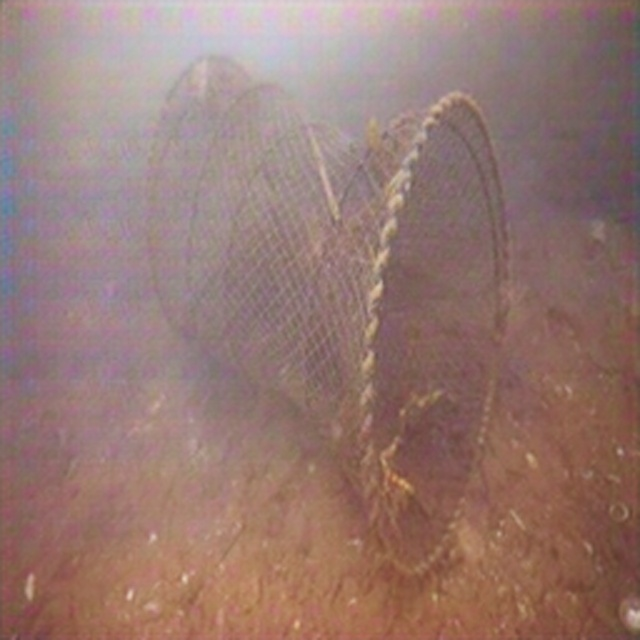mine: (144, 53, 511, 579)
